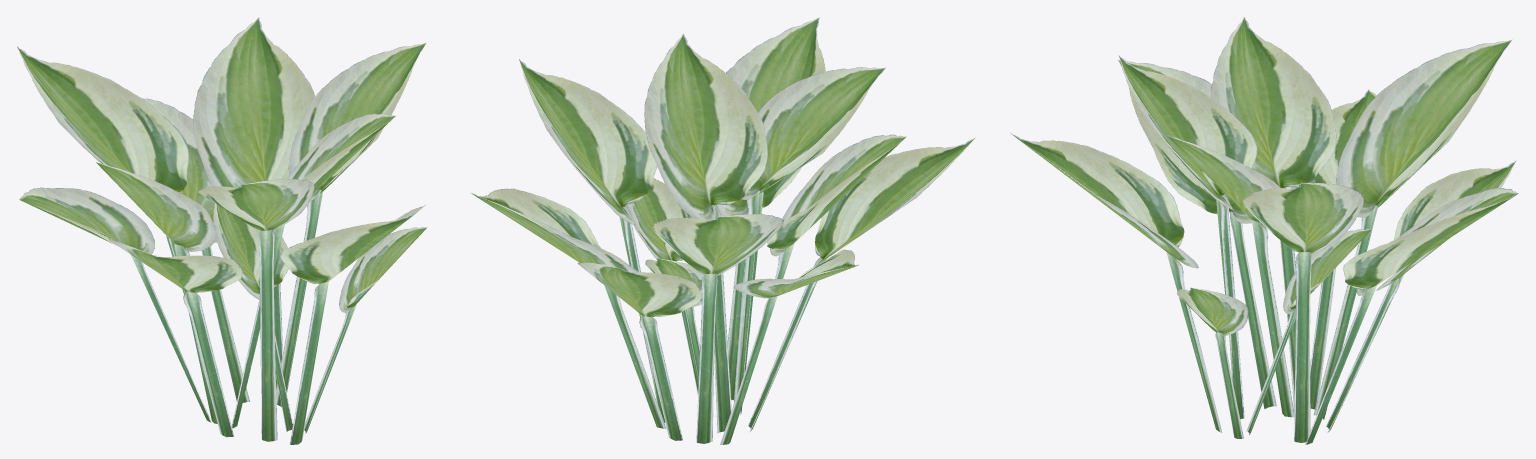
The model's file is plant_small_wg_02M.fbx.
3 renders of one model, left to right at view 1: azimuth 30°, elevation 25°; view 2: azimuth 150°, elevation 25°; view 3: azimuth 270°, elevation 25°, orthographic.
Visible parts, largest first — view 1: plant_small_wg_02M; view 2: plant_small_wg_02M; view 3: plant_small_wg_02M.
Part boxes in pixels (x1=…): plant_small_wg_02M: x1=17, y1=17, x2=427, y2=444; plant_small_wg_02M: x1=470, y1=17, x2=975, y2=444; plant_small_wg_02M: x1=1010, y1=17, x2=1518, y2=444.
Size of the model in its own units: 56.96 by 47.69 by 66.88.
